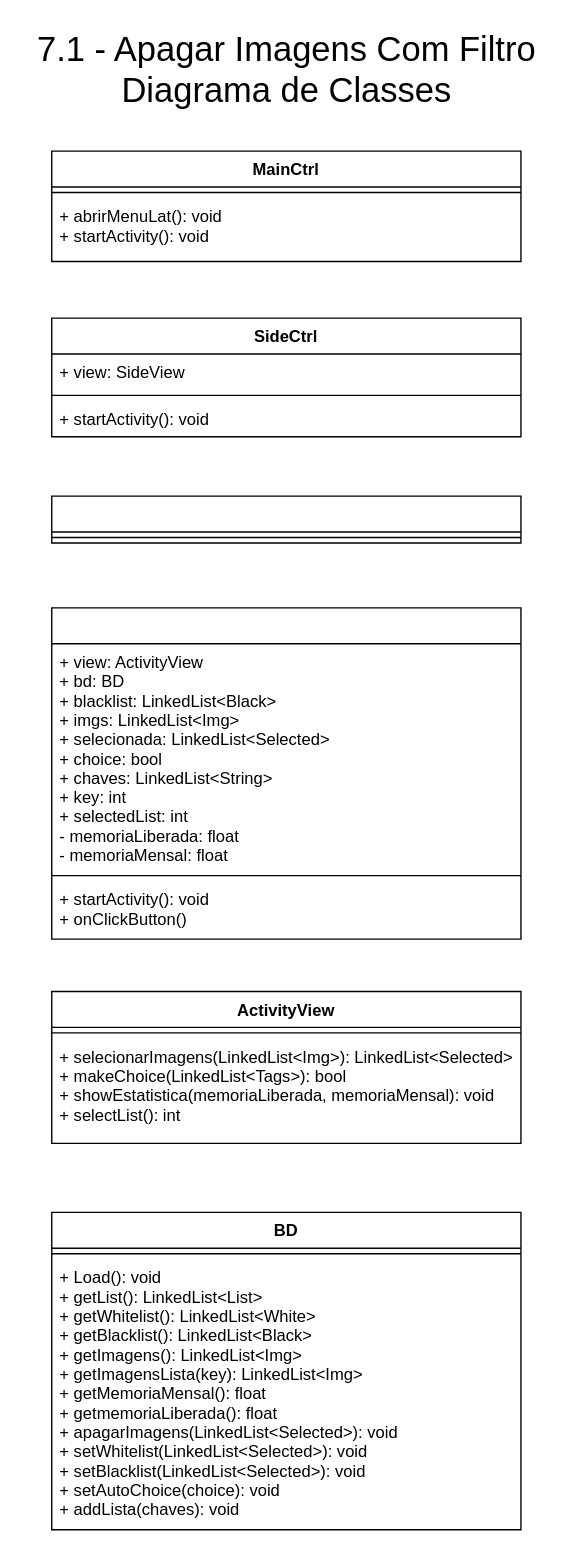
Some shapes in this 571 by 1557 pixel diagram are drawn without their labels. Each missing label, with the box of its shape:
ActivityCtrl: (50, 607, 521, 939)
SideView: (50, 495, 521, 543)
